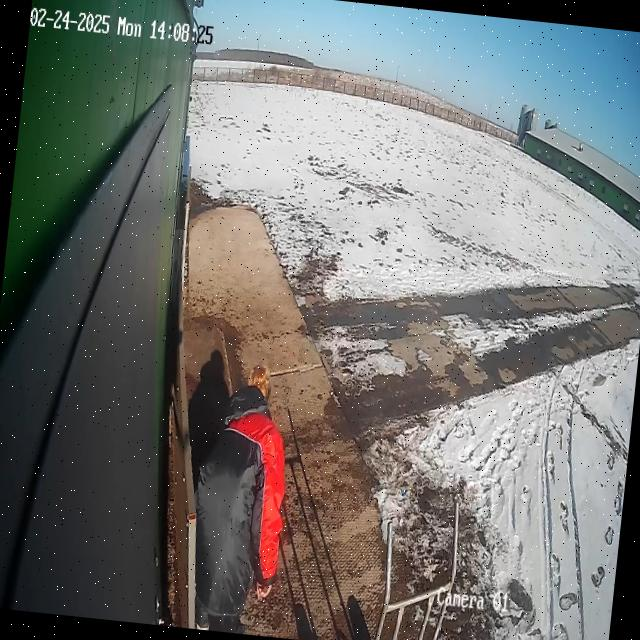Red uniform: (178, 356, 301, 634)
